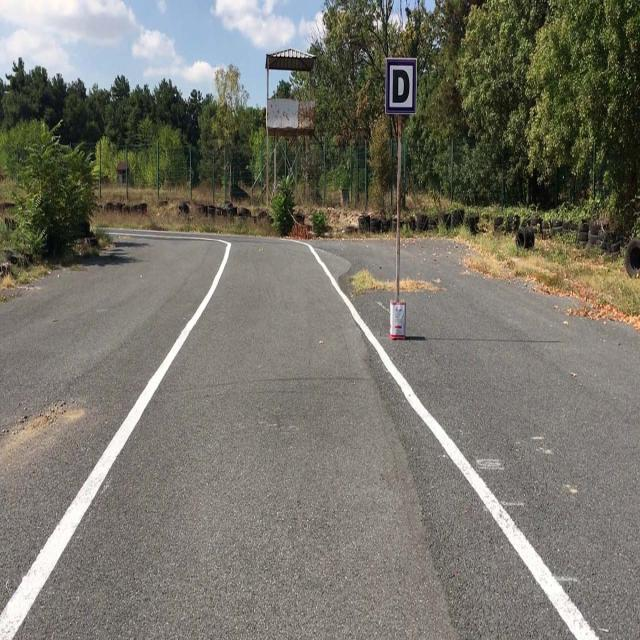durak: (385, 59, 417, 113)
